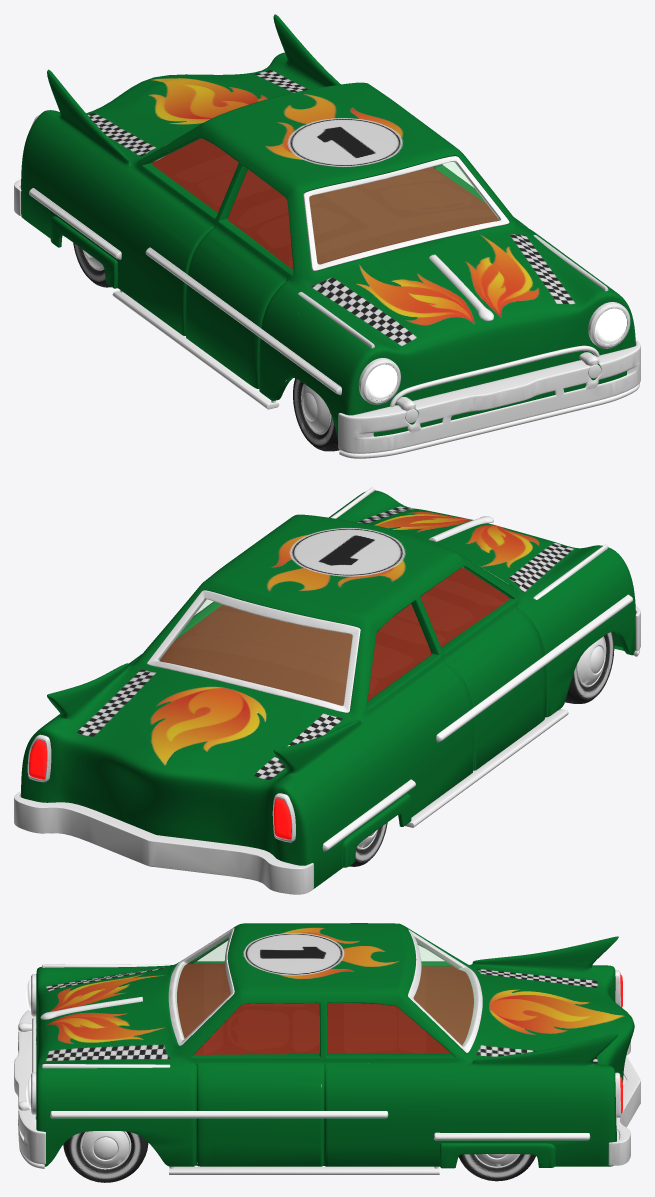
The model's file is toy-car.glb.
3 renders of one model, top to bottom at view 1: azimuth 30°, elevation 25°; view 2: azimuth 150°, elevation 25°; view 3: azimuth 270°, elevation 25°, orthographic. The views are drawn at different scales.
Parts seen in each view (by area): view 1: ToyCar_Body, ToyCar_Bumper_R, ToyCar_Glazing, ToyCar_Wheel_RL, ToyCar_Wheel_FL; view 2: ToyCar_Body, ToyCar_Bumper_F, ToyCar_Glazing, ToyCar_Wheel_RL, ToyCar_Wheel_FL; view 3: ToyCar_Body, ToyCar_Glazing, ToyCar_Wheel_RR, ToyCar_Bumper_R, ToyCar_Bumper_F, ToyCar_Wheel_FR.
Boxes of the visible parts, x1=… form: ToyCar_Body: x1=21, y1=14, x2=635, y2=439; ToyCar_Bumper_R: x1=338, y1=337, x2=640, y2=458; ToyCar_Glazing: x1=309, y1=162, x2=499, y2=263; ToyCar_Wheel_RL: x1=285, y1=377, x2=340, y2=451; ToyCar_Wheel_FL: x1=60, y1=234, x2=111, y2=287; ToyCar_Body: x1=21, y1=487, x2=635, y2=888; ToyCar_Bumper_F: x1=14, y1=694, x2=313, y2=894; ToyCar_Glazing: x1=159, y1=599, x2=351, y2=705; ToyCar_Wheel_RL: x1=565, y1=631, x2=619, y2=703; ToyCar_Wheel_FL: x1=349, y1=814, x2=400, y2=866; ToyCar_Body: x1=26, y1=923, x2=634, y2=1174; ToyCar_Glazing: x1=175, y1=935, x2=475, y2=1045; ToyCar_Wheel_RR: x1=63, y1=1131, x2=148, y2=1182; ToyCar_Bumper_R: x1=14, y1=1009, x2=45, y2=1168; ToyCar_Bumper_F: x1=606, y1=936, x2=640, y2=1165; ToyCar_Wheel_FR: x1=458, y1=1154, x2=535, y2=1181.
Bounding box in the file's own units: 2.43 × 1.51 × 4.99.
Materials: 2 (1 with a texture image).
